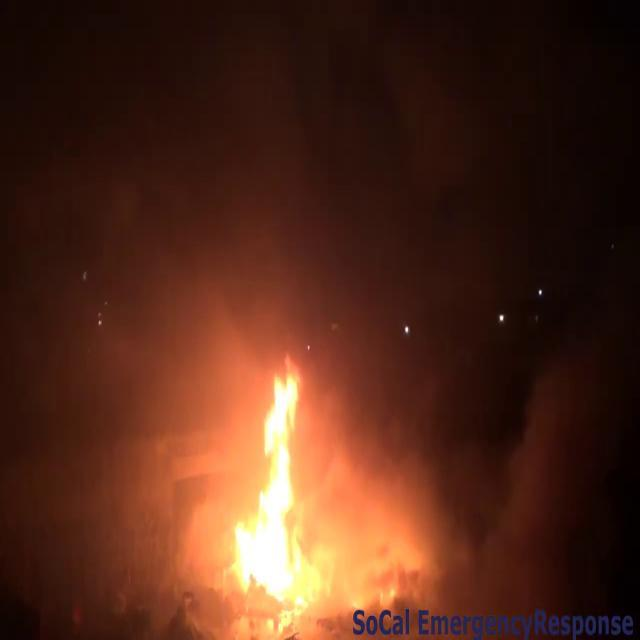Fire: (222, 353, 322, 619)
Smoke: (320, 318, 611, 620)
